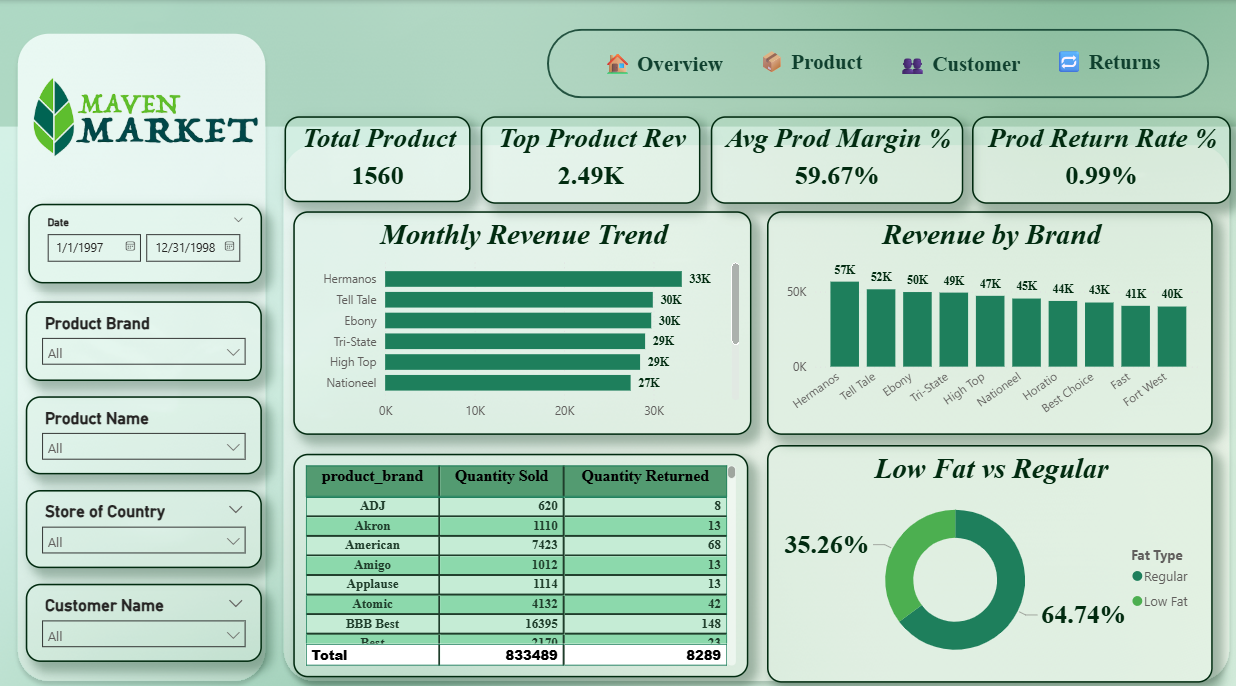

The page's visual inventory and layout, read from the dashboard file:
{"tool":"powerbi","page":{"name":"Product","canvas":[1280,720],"ordinal":2},"visuals":[{"type":"image","box":[30.6,43.1,240.7,151.7],"z":0},{"type":"tableEx","fields":{"Values":["Dim_Products.product_brand","Measure.Quantity Sold","Measure.Quantity Returned"]},"box":[302.7,464.1,465.6,229],"z":1000},{"type":"card","title":"Total Product","fields":{"Values":["Measure.Total Products"]},"box":[294.1,118.9,190.5,88.2],"z":2000},{"type":"card","title":"Top Product Rev","fields":{"Values":["Measure.Top Product Revenue"]},"box":[494.9,118.9,225.1,89.5],"z":3000},{"type":"card","title":"Avg Prod Margin %","fields":{"Values":["Measure.Margin %"]},"box":[730.1,118.9,258.3,89.5],"z":4000},{"type":"card","title":"Prod Return Rate %","fields":{"Values":["Measure.Return Rate %"]},"box":[997.4,118.9,264.7,89.5],"z":5000},{"type":"clusteredBarChart","title":"Monthly Revenue Trend","fields":{"Category":["Dim_Products.product_brand"],"Y":["Measure.Profit"]},"box":[302.7,216.7,468.7,229],"z":6000},{"type":"clusteredColumnChart","title":"Revenue by Brand","fields":{"Y":["Measure.Total Revenue"],"Category":["Dim_Products.product_brand"]},"box":[788.3,216.7,456.4,229],"z":7000},{"type":"donutChart","title":"Low Fat vs Regular","fields":{"Category":["Dim_Products.Fat Type"],"Y":["Measure.Total Revenue"]},"box":[788,455,456,243],"z":8000},{"type":"shape","box":[563.2,29,677.3,71.2],"z":9000},{"type":"actionButton","box":[613.7,44.1,135,41.7],"z":10000},{"type":"actionButton","box":[768.6,42.7,126.6,40.3],"z":11000},{"type":"actionButton","box":[915.1,44.1,137.7,41.7],"z":12000},{"type":"actionButton","box":[1072.8,42.7,126.6,40.3],"z":13000},{"type":"slicer","fields":{"Values":["Dim_Products.product_brand"]},"box":[29.2,308.1,241.2,81.4],"z":14000},{"type":"slicer","fields":{"Values":["Dim_Products.product_name"]},"box":[29.2,405.7,241.2,79.9],"z":15000},{"type":"slicer","fields":{"Values":["Dim_Stores.store_country"]},"box":[29.2,501.7,241.2,79.9],"z":16000},{"type":"slicer","fields":{"Values":["Dim_Customers.Full Name"]},"box":[29.2,597.7,241.2,79.9],"z":17000},{"type":"slicer","fields":{"Values":["Dim_Calendar.date"]},"box":[32,208.4,239.1,81.8],"z":18000}]}

Visuals, with their boxes in screenshot pixels (x1, y1, x2, y2), scaled from the page's 1280x720 canvas onto the 1236x686 screenshot:
image: Rect(30, 41, 262, 186)
tableEx - Dim_Products.product_brand x Measure.Quantity Sold: Rect(292, 442, 742, 660)
"Total Product" card: Rect(284, 113, 468, 197)
"Top Product Rev" card: Rect(478, 113, 695, 199)
"Avg Prod Margin %" card: Rect(705, 113, 954, 199)
"Prod Return Rate %" card: Rect(963, 113, 1219, 199)
"Monthly Revenue Trend" clusteredBarChart: Rect(292, 206, 745, 425)
"Revenue by Brand" clusteredColumnChart: Rect(761, 206, 1202, 425)
"Low Fat vs Regular" donutChart: Rect(761, 434, 1201, 665)
shape: Rect(544, 28, 1198, 95)
actionButton: Rect(593, 42, 723, 82)
actionButton: Rect(742, 41, 864, 79)
actionButton: Rect(884, 42, 1017, 82)
actionButton: Rect(1036, 41, 1158, 79)
slicer - Dim_Products.product_brand: Rect(28, 294, 261, 371)
slicer - Dim_Products.product_name: Rect(28, 387, 261, 463)
slicer - Dim_Stores.store_country: Rect(28, 478, 261, 554)
slicer - Dim_Customers.Full Name: Rect(28, 569, 261, 646)
slicer - Dim_Calendar.date: Rect(31, 199, 262, 276)
